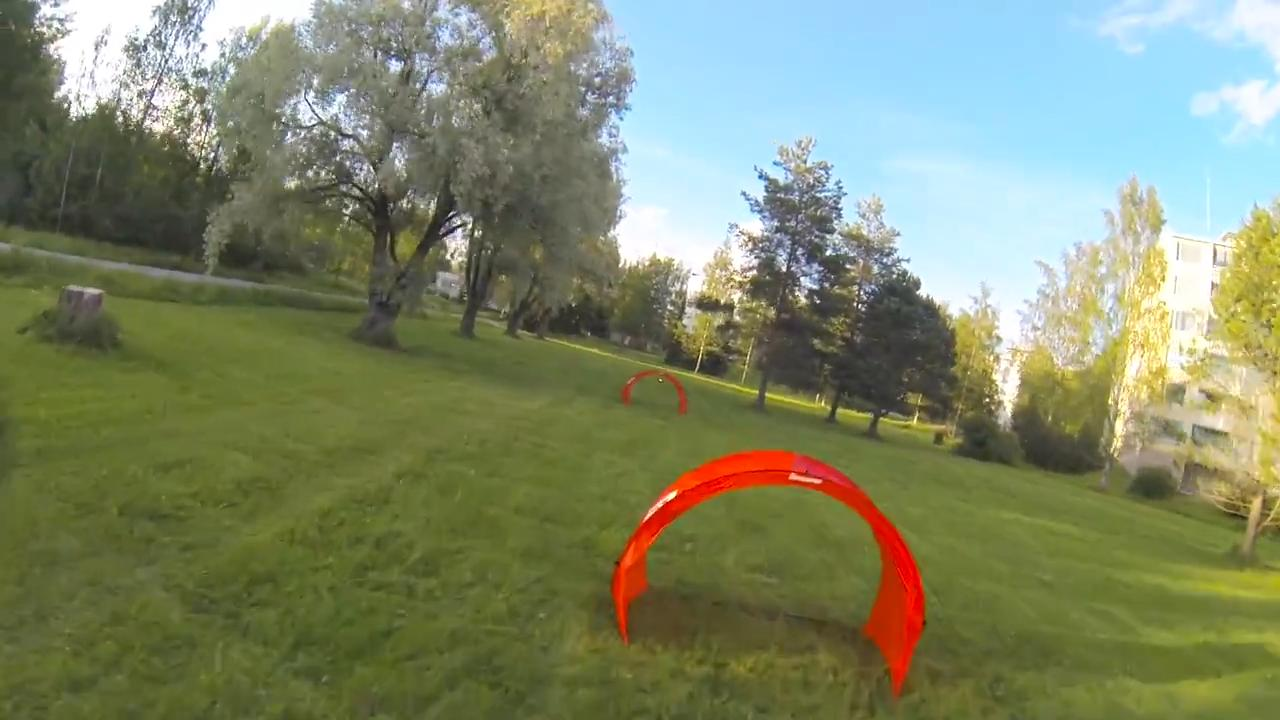gate: (611, 445, 928, 698)
